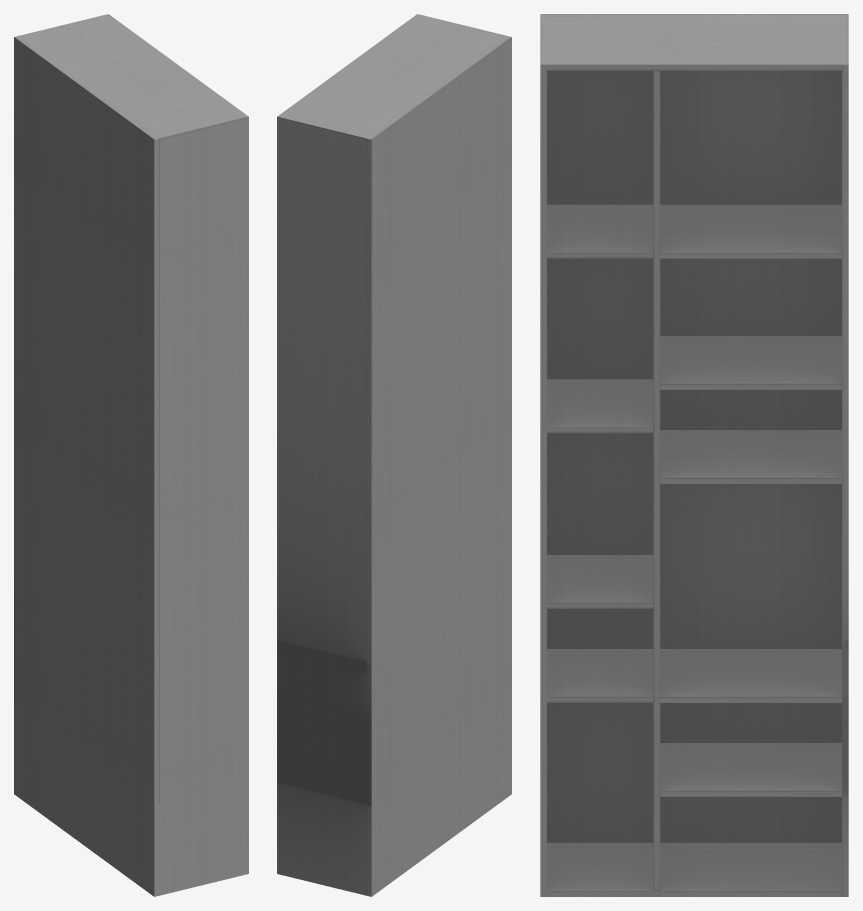
Rendered from SmallAlmeera.fbx.
The picture shows the model from 3 angles, left to right: view 1: azimuth 30°, elevation 25°; view 2: azimuth 150°, elevation 25°; view 3: azimuth 270°, elevation 25°; orthographic projection. The views are drawn at different scales.
Visible parts, largest first — view 1: SmallAlmeera; view 2: SmallAlmeera; view 3: SmallAlmeera.
Part boxes in pixels (x1,y1,x2,y2): SmallAlmeera: [14, 14, 248, 896]; SmallAlmeera: [277, 14, 511, 896]; SmallAlmeera: [540, 14, 848, 896].
Size of the model in its own units: 33.89 by 260 by 87.18.
